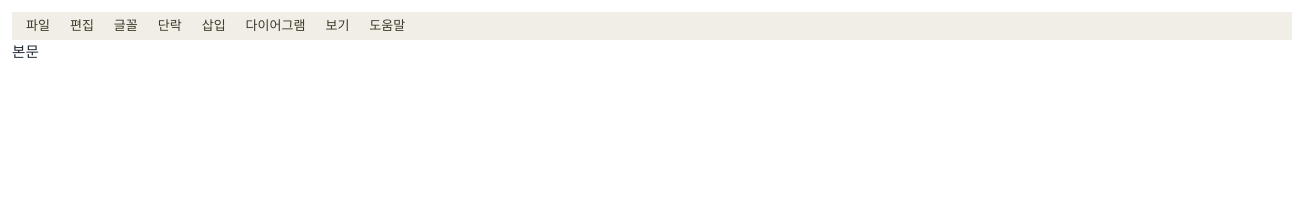
Test: MenuBar › shows the shortcut next to an item
The width and height of the screenshot is (1292, 200).
Click the menu item "보기": [337, 26] box [315,14,359,38]
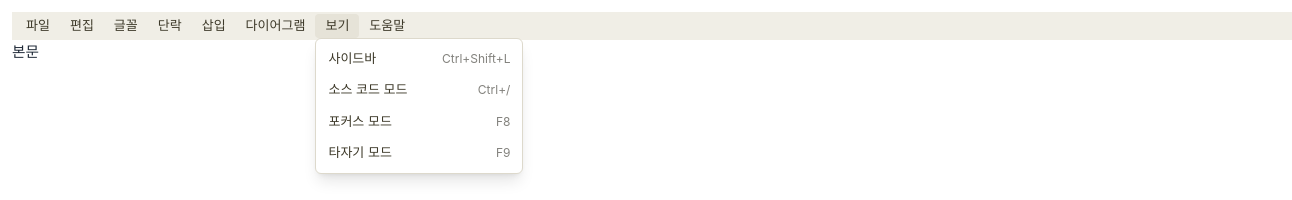
Expected: the menu item "포커스 모드 F8" is shown, [316,106,522,137]
